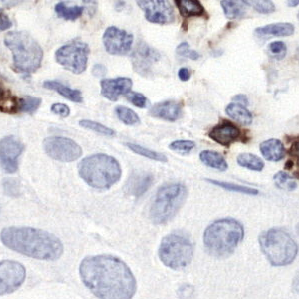Lymphocyte: (209, 119, 243, 146)
